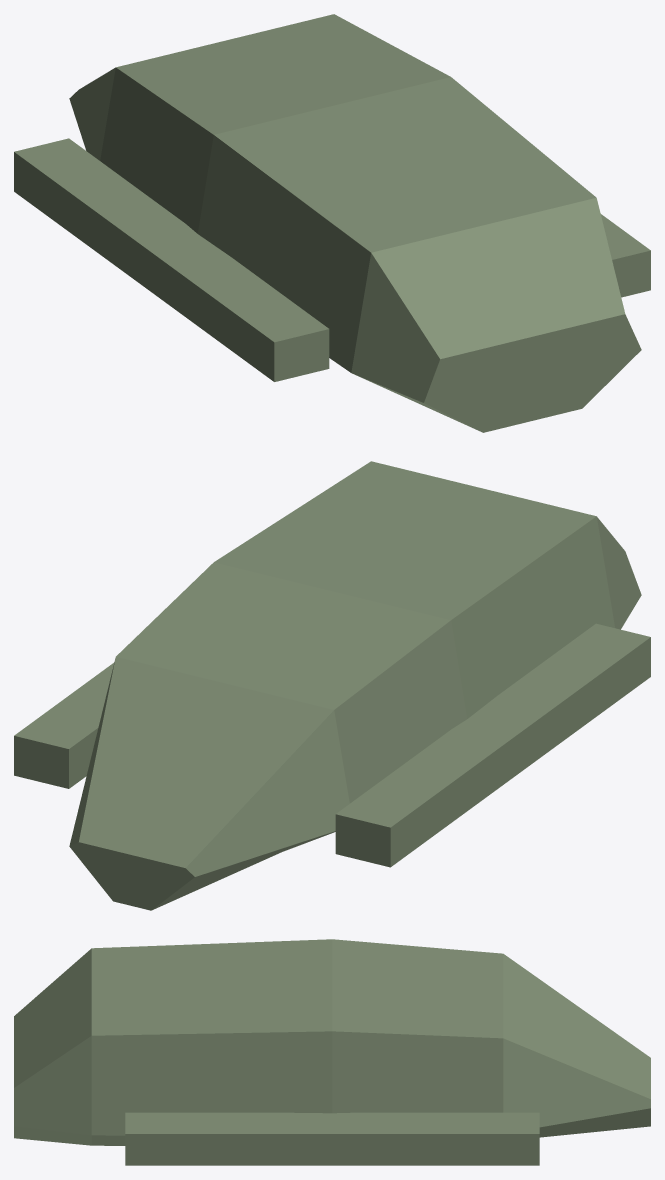
Rendered from hull_06_heavy_transport.glb.
The picture shows the model from 3 angles, top to bottom: view 1: azimuth 30°, elevation 25°; view 2: azimuth 150°, elevation 25°; view 3: azimuth 270°, elevation 25°; orthographic projection. The views are drawn at different scales.
Visible parts, largest first — view 1: Hull_06_HeavyTransport; view 2: Hull_06_HeavyTransport; view 3: Hull_06_HeavyTransport.
Boxes of the visible parts, x1,y1,x2,y2 form: Hull_06_HeavyTransport: [14, 14, 650, 432]; Hull_06_HeavyTransport: [14, 461, 650, 910]; Hull_06_HeavyTransport: [14, 939, 650, 1165].
Bounding box in the file's own units: 4.45 × 1.9 × 8.2.
